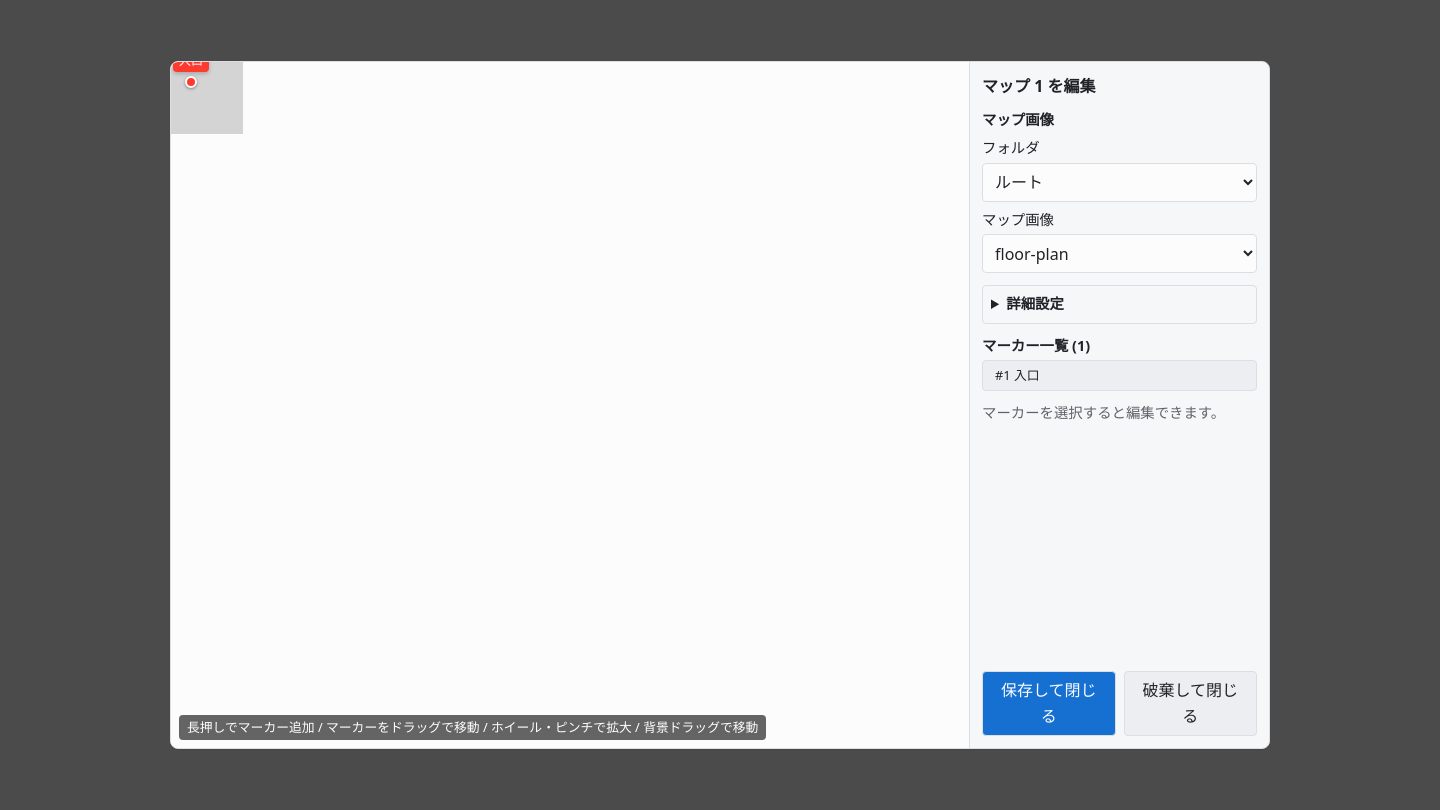
Scenario: MapEditorModal › videoinput がある場合は「カメラで撮影」ボタンを表示する
The width and height of the screenshot is (1440, 810).
What coordinates should you click on to do the following:
click the button "#1 入口"
I would click on:
 (1017, 375)
Its box is [982, 360, 1257, 391].
(page scrolled)
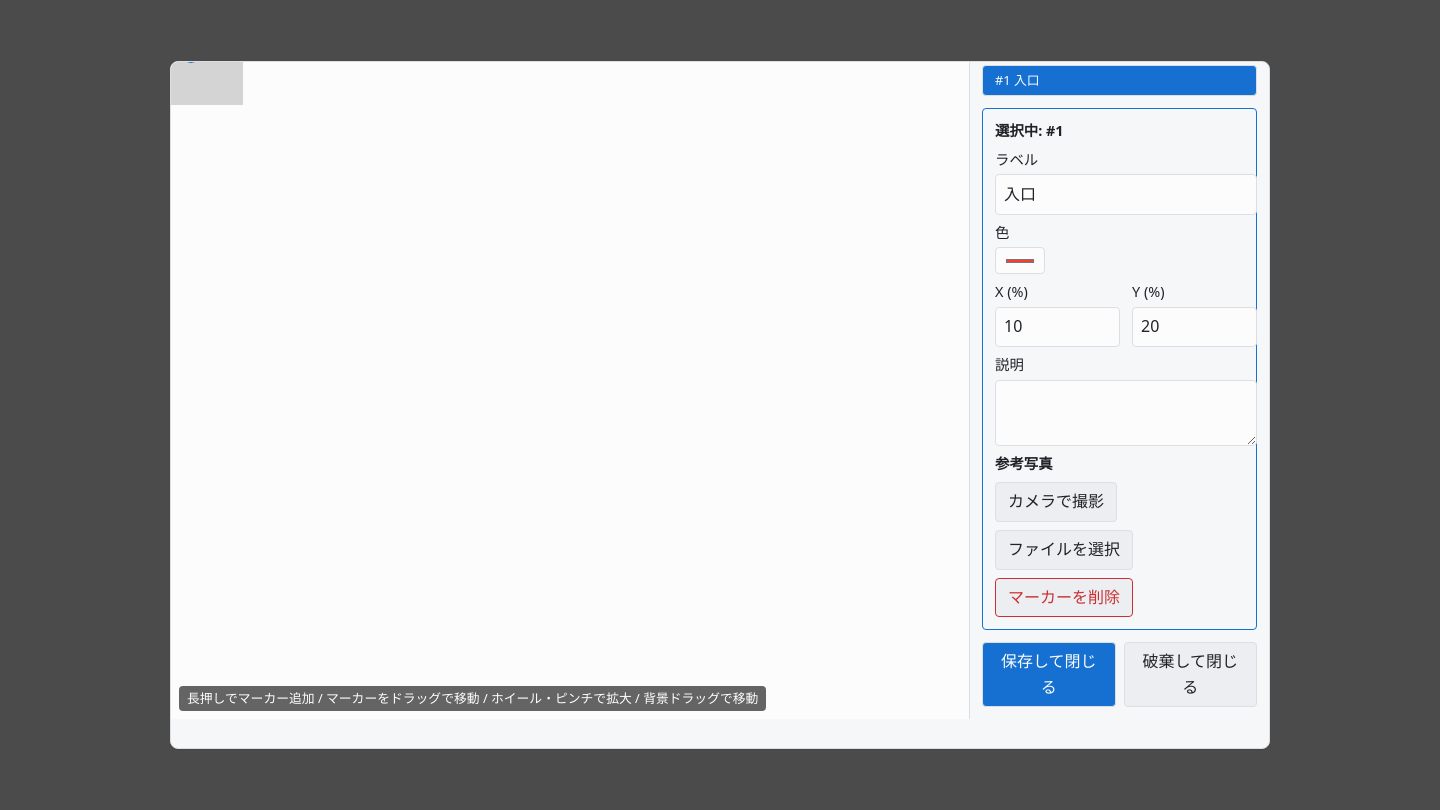
Expected: the button "カメラで撮影" is shown, [995, 482, 1117, 522]
Expected: the button "ファイルを選択" is shown, [995, 530, 1133, 570]
